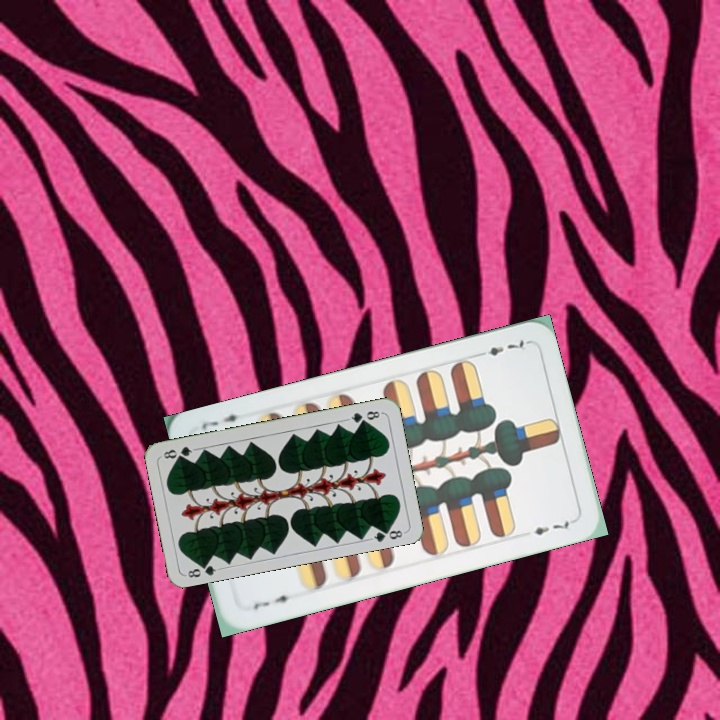E7: (472, 336, 530, 360), (249, 591, 298, 613)
G8: (182, 558, 223, 580), (344, 407, 384, 426)
